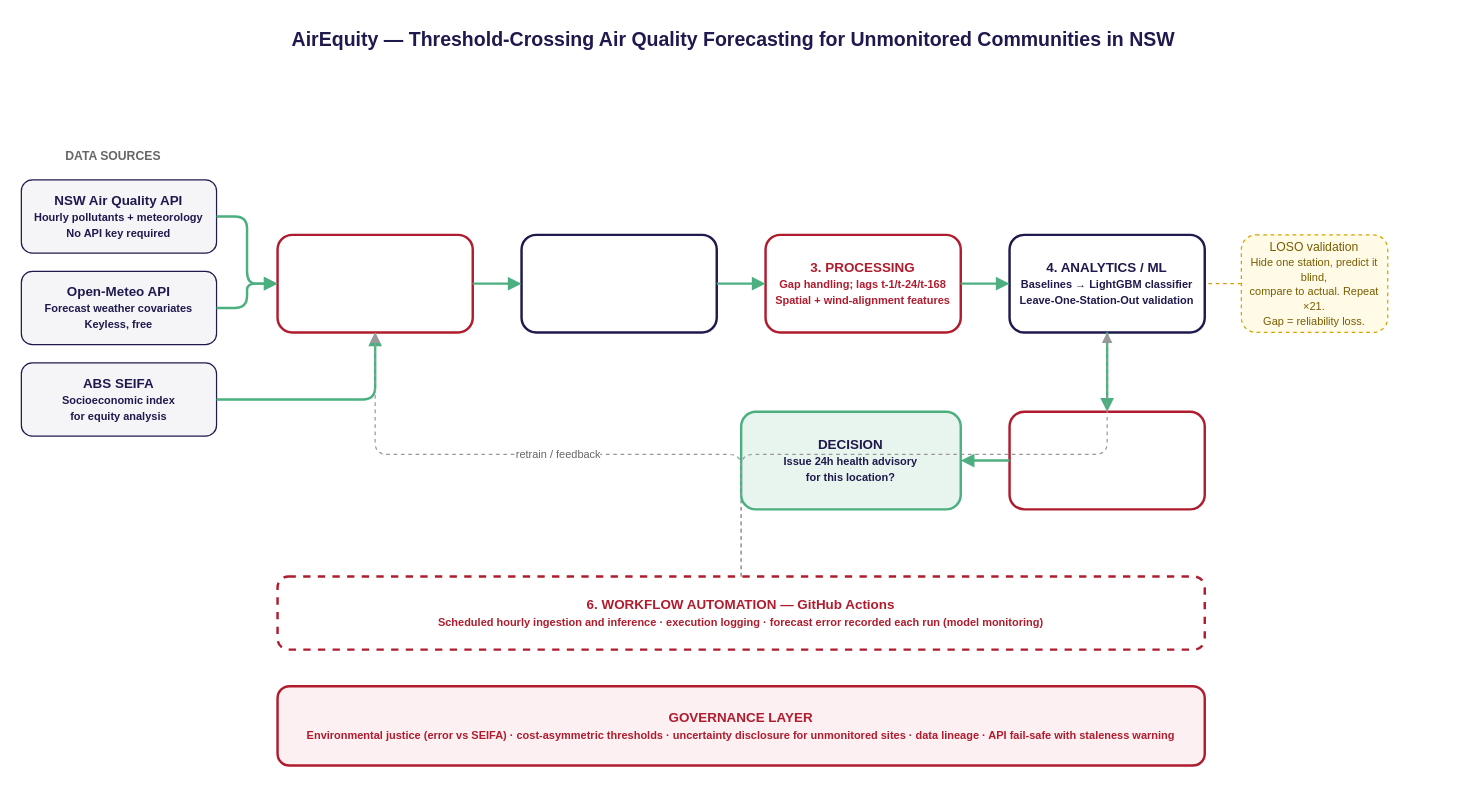
This 1482x787 diagram has some shape labels left out. The shapes that lost their labels are listed below. From the top down, each one's centre as x and y in pixels, then its label:
the point at 374,283: 1. ACQUISITION Scheduled Python ingestion Schema validation, retries
the point at 618,283: 2. STORAGE Raw JSON archive (lineage) Partitioned Parquet + DuckDB
the point at 1106,460: 5. VISUALISATION Streamlit: station map, suburb lookup, reliability shown
